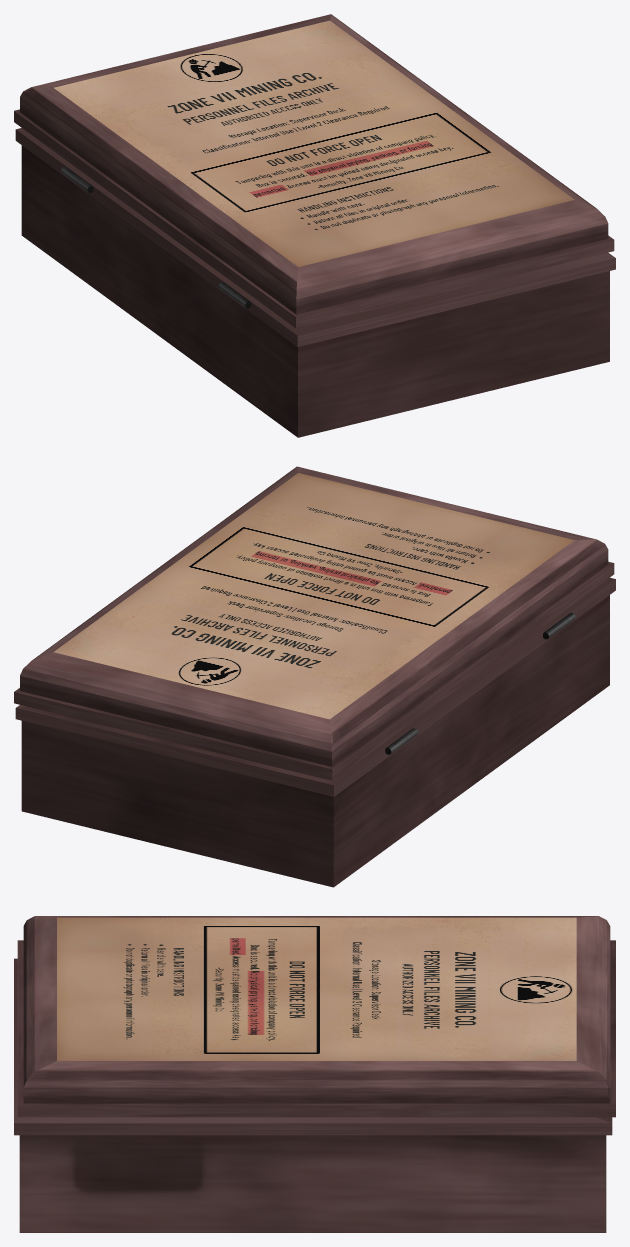
File: woodenBox(textured).fbx
3 renders of one model, top to bottom at view 1: azimuth 30°, elevation 25°; view 2: azimuth 150°, elevation 25°; view 3: azimuth 270°, elevation 25°, orthographic. The views are drawn at different scales.
Parts seen in each view (by area): view 1: BodLid, Box; view 2: BodLid, Box; view 3: BodLid, Box.
Boxes of the visible parts, left/top/right/bottom form: BodLid: left=14, top=14, right=614, bottom=328; Box: left=15, top=128, right=615, bottom=437; BodLid: left=14, top=466, right=614, bottom=780; Box: left=15, top=577, right=615, bottom=887; BodLid: left=17, top=916, right=615, bottom=1117; Box: left=14, top=958, right=612, bottom=1232.
Bounding box in the file's own units: 305 × 138 × 462.
1 material, 1 textured.
